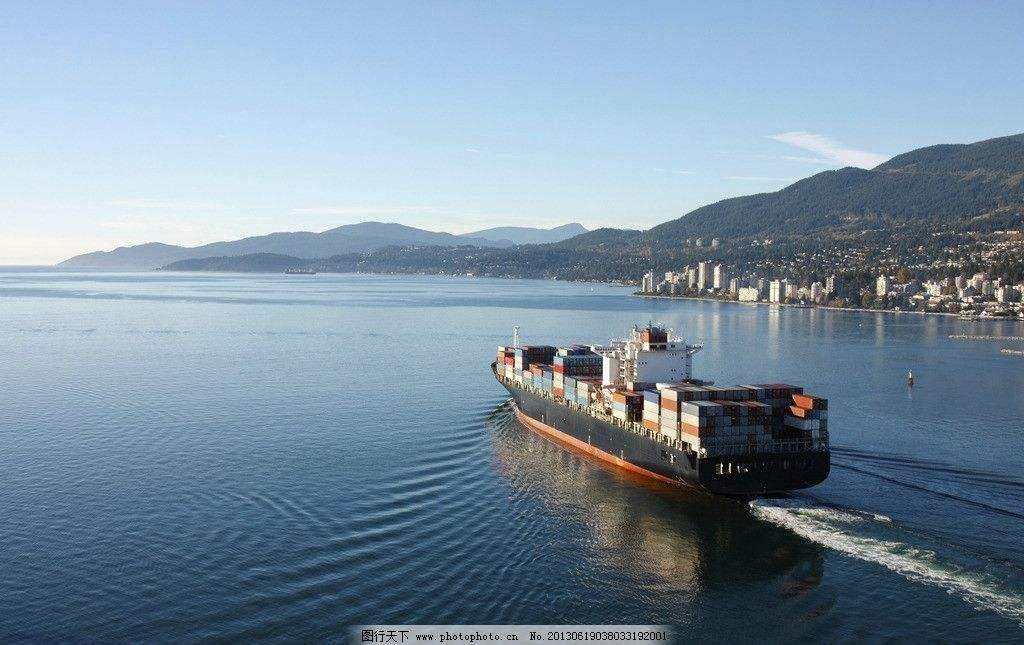Cargoship: (478, 311, 843, 496)
